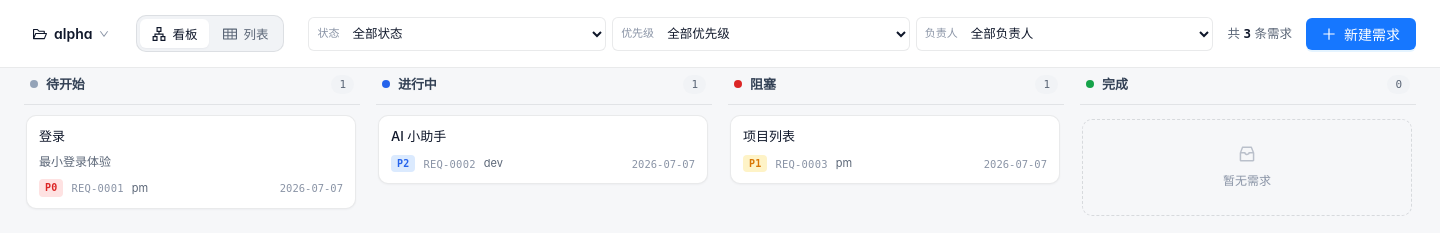
RequirementGrid › 按状态、优先级和负责人筛选需求
Expected: the heading "登录" is shown, [39,128,65,144]
Expected: the text "最小登录体验" is shown, [39,154,111,169]
Select "P0" in the dropdown labelled "优先级". click: [784, 34]
box: [659,18,909,50]
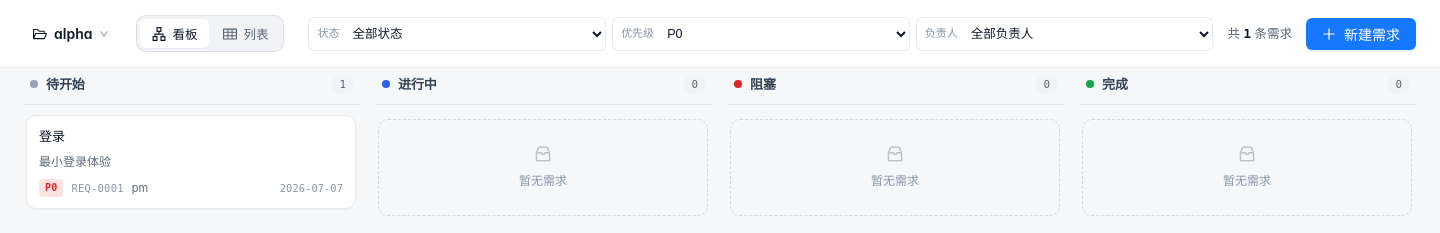
Expected: the heading "登录" is shown, [39,128,65,144]
Result: the button "AI 小助手" is gone
Result: the button "项目列表" is gone
Select "全部优先级" in the dropdown labelled "优先级". click: [784, 34]
box: [659,18,909,50]
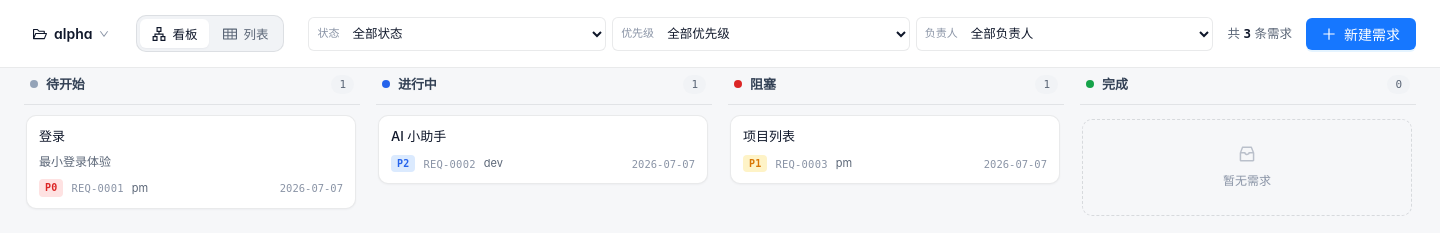
Select "pm" in the dropdown labelled "负责人". click: [1088, 34]
box: [963,18,1212,50]
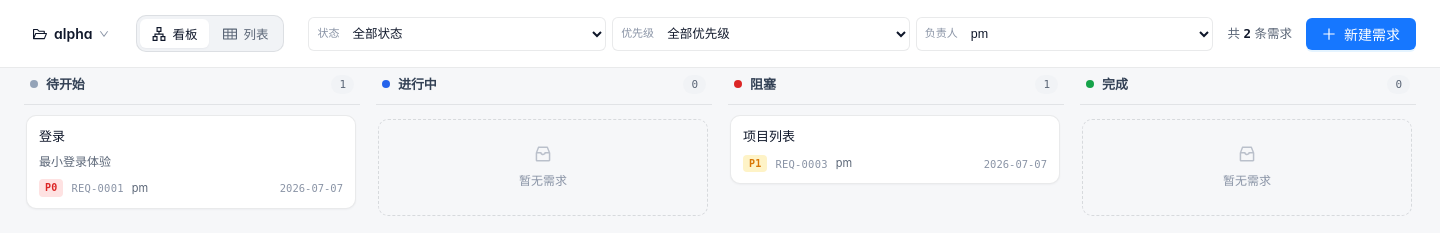
Expected: the heading "登录" is shown, [39,128,65,144]
Result: the heading "项目列表" is shown at [743,128,795,144]
Result: the button "AI 小助手" is gone
Select "阻塞" in the dropdown labelled "状态". click: [475, 34]
box: [344,18,605,50]
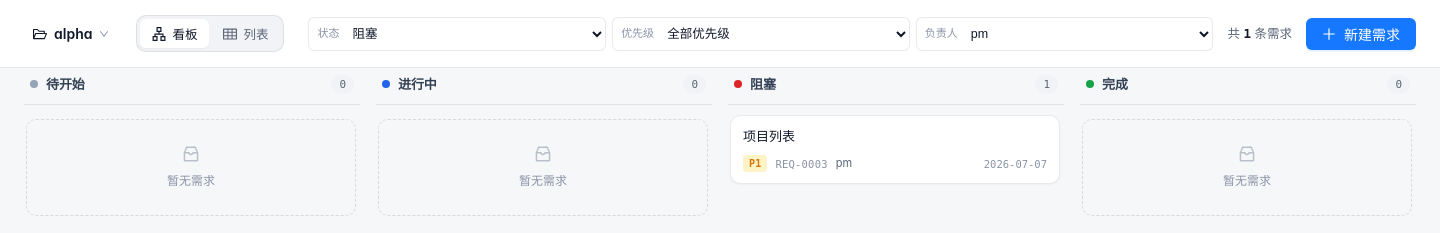
Result: the heading "项目列表" is shown at [743,128,795,144]
Result: the button "登录" is gone
